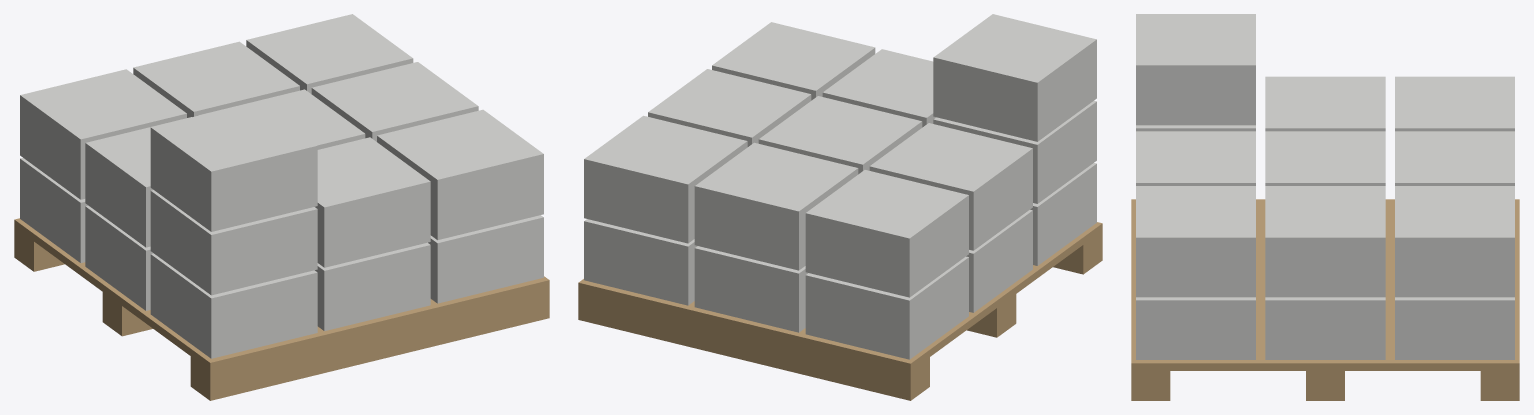
The model's file is pallet_mp_19.glb.
3 renders of one model, left to right at view 1: azimuth 30°, elevation 25°; view 2: azimuth 150°, elevation 25°; view 3: azimuth 270°, elevation 25°, orthographic. The views are drawn at different scales.
Parts seen in each view (by area): view 1: PalletMP; view 2: PalletMP; view 3: PalletMP.
Boxes of the visible parts, x1,y1,x2,y2 form: PalletMP: (14,14,549,400); PalletMP: (578,14,1102,400); PalletMP: (1131,14,1519,400).
Size of the model in its own units: 1 by 0.6386 by 1.
